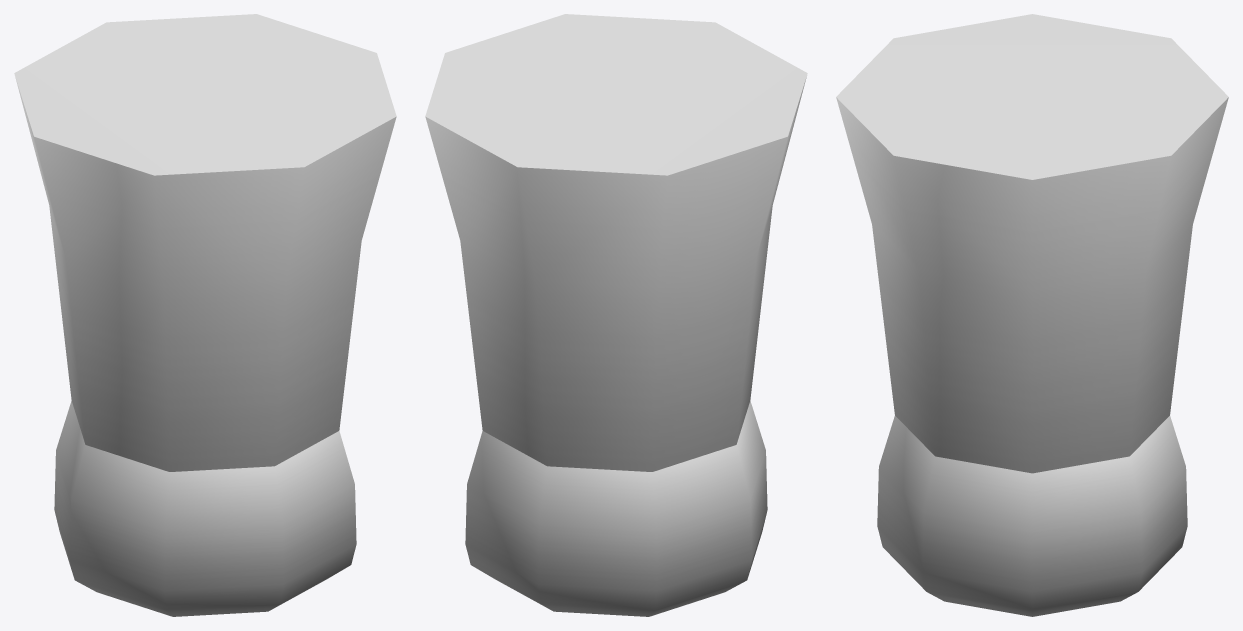
The model's file is stone_grip_067.glb.
The picture shows the model from 3 angles, left to right: view 1: azimuth 30°, elevation 25°; view 2: azimuth 150°, elevation 25°; view 3: azimuth 270°, elevation 25°; orthographic projection.
Visible parts, largest first — view 1: stone_grip.067; view 2: stone_grip.067; view 3: stone_grip.067.
Boxes of the visible parts, box(x1,y1,x2,y2) form: stone_grip.067: box(14, 14, 396, 616); stone_grip.067: box(425, 14, 807, 616); stone_grip.067: box(836, 14, 1228, 616).
Bounding box in the file's own units: 2.65 × 3.48 × 2.65.
1 material, 1 textured.
